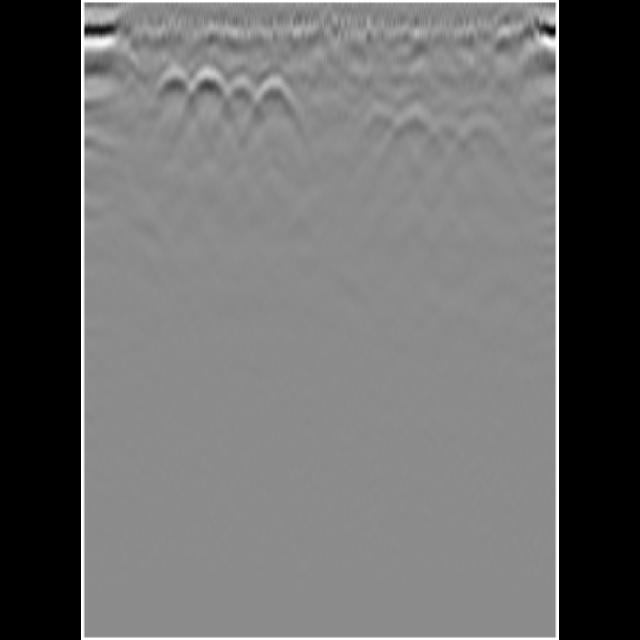hyperbola: (421, 111, 472, 155), (388, 102, 438, 146), (459, 112, 508, 154), (253, 72, 299, 116), (152, 64, 194, 108), (186, 64, 230, 104), (216, 74, 260, 114), (357, 104, 403, 142)
